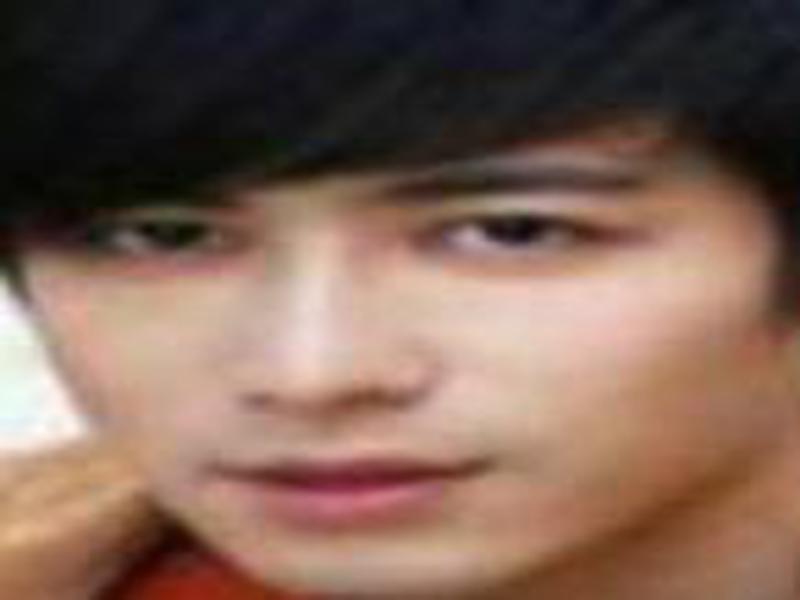without_mask: (12, 121, 759, 600)
